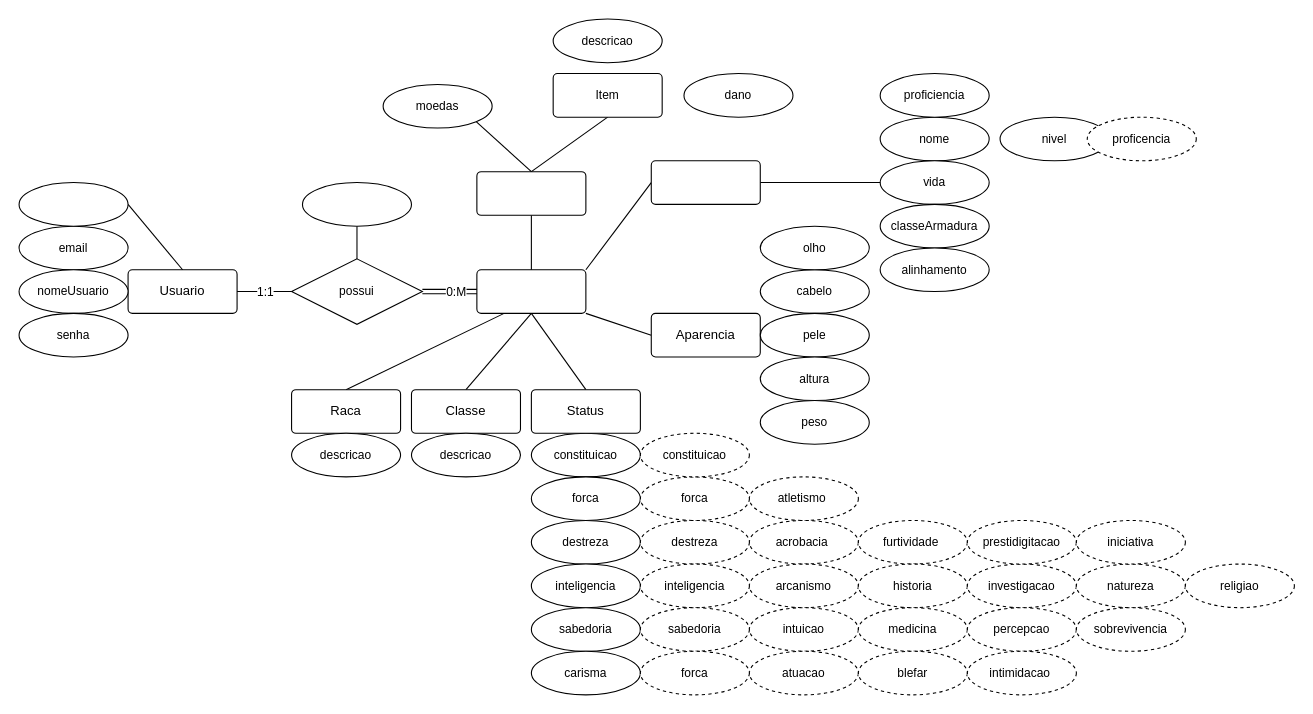
This 1313x714 diagram has some shape labels left out. The box of each missing label's shape, as (x1, y1, x2, y2) in pixels:
Ficha: (476, 269, 586, 313)
Geral: (650, 160, 760, 204)
id: (18, 181, 128, 226)
Inventario: (476, 171, 586, 215)
quantidadeFichas: (301, 181, 411, 226)
